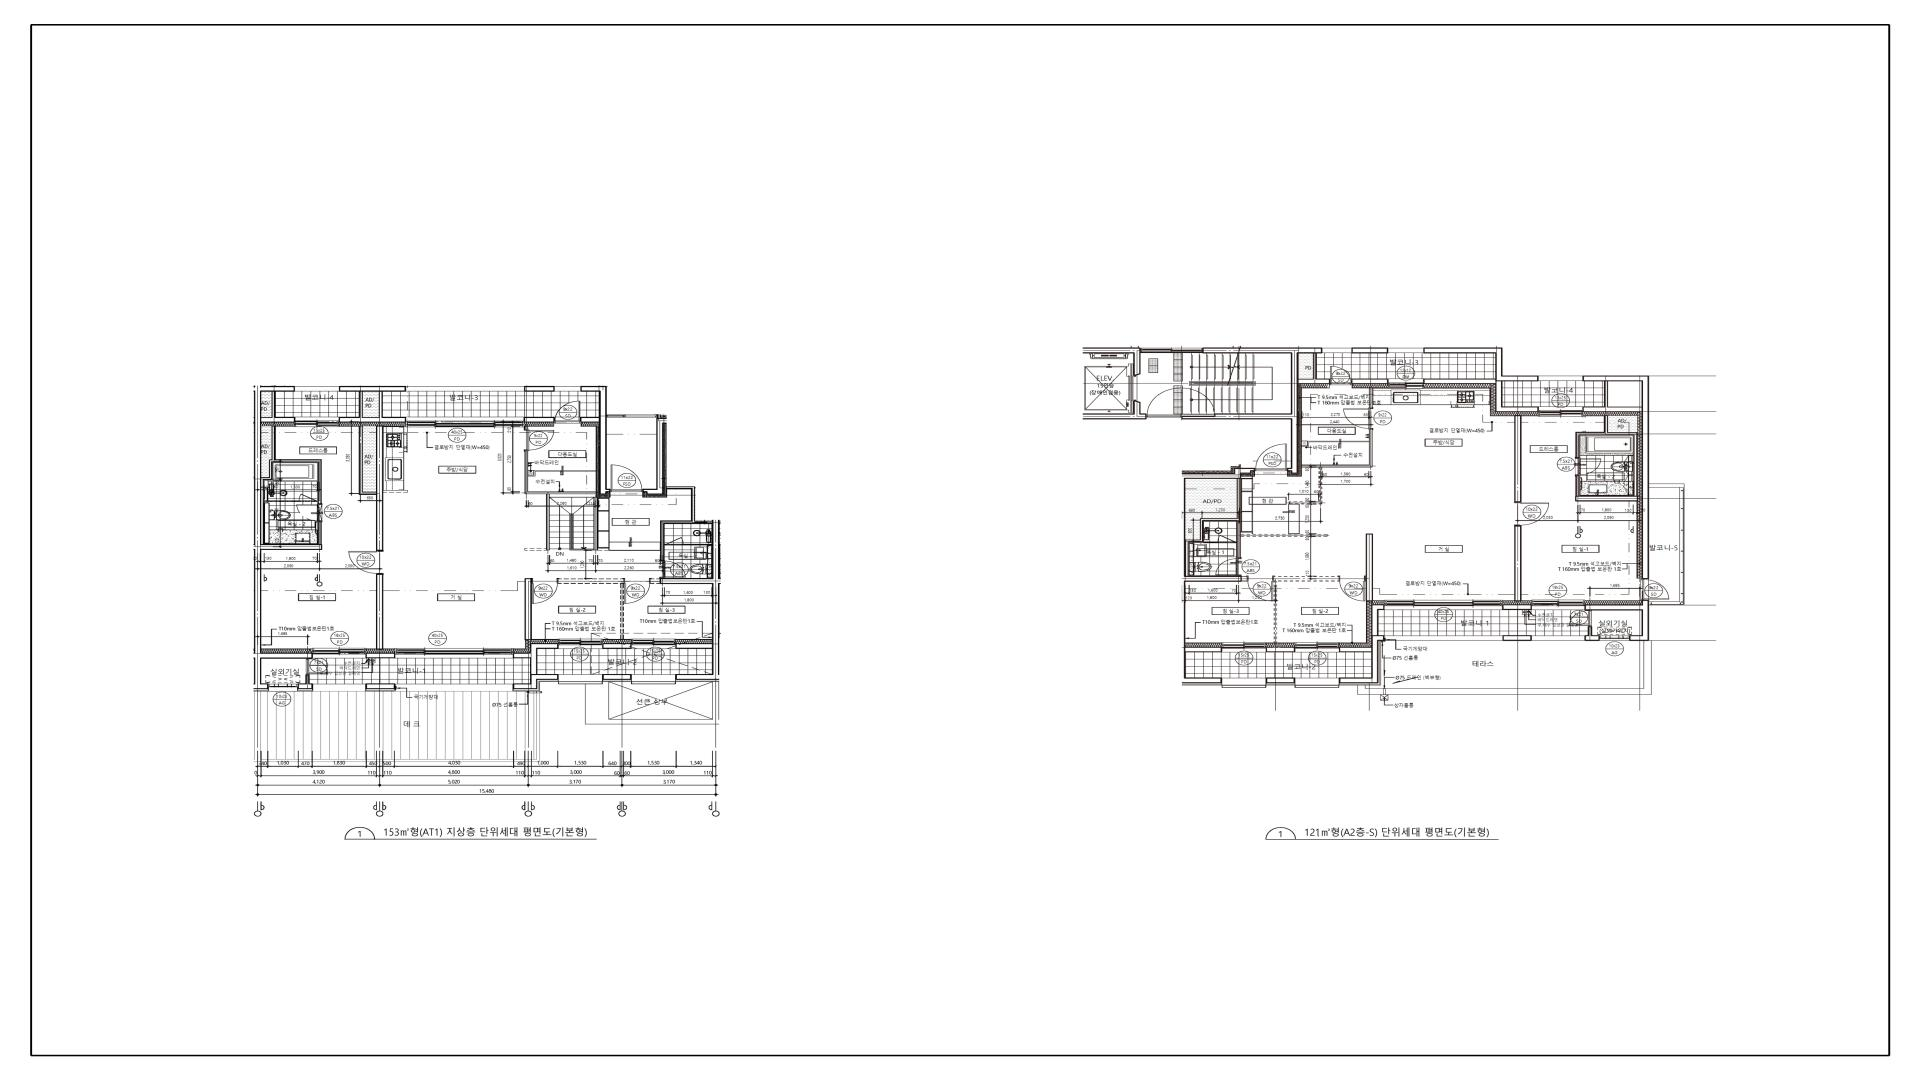door: (1146, 388, 1182, 418), (1255, 443, 1287, 472), (611, 464, 642, 492), (1514, 502, 1549, 526), (348, 551, 384, 574), (1338, 576, 1366, 601), (1247, 576, 1274, 601), (531, 579, 558, 604), (624, 579, 650, 604), (1342, 407, 1373, 429), (525, 430, 555, 451), (554, 401, 580, 423), (1642, 579, 1669, 600), (1215, 558, 1242, 576), (1576, 458, 1602, 476), (297, 504, 322, 522), (661, 560, 686, 579), (1329, 365, 1352, 385), (306, 658, 328, 675), (1568, 611, 1592, 626), (1217, 534, 1236, 543), (665, 537, 683, 546), (299, 493, 318, 502)
wall: (1582, 376, 1685, 641), (642, 414, 720, 680), (255, 386, 322, 690), (1182, 347, 1321, 473), (1182, 468, 1255, 683), (1185, 479, 1328, 576), (261, 426, 322, 545), (525, 451, 596, 550), (1288, 429, 1373, 505), (1576, 415, 1638, 501), (1274, 576, 1338, 644), (558, 579, 624, 640), (1424, 378, 1539, 413), (1424, 348, 1539, 381), (580, 386, 611, 495), (359, 426, 384, 551), (1340, 636, 1385, 683), (339, 392, 406, 422), (1582, 381, 1642, 413), (1083, 348, 1141, 376), (513, 644, 558, 674), (661, 521, 692, 560), (1083, 401, 1146, 419), (261, 392, 295, 422), (1298, 353, 1329, 384), (593, 497, 609, 550), (513, 674, 559, 690), (1514, 415, 1522, 502), (376, 574, 384, 650), (1514, 526, 1522, 601), (513, 680, 559, 691), (1366, 534, 1373, 601), (1371, 604, 1385, 636), (525, 579, 531, 641), (339, 386, 406, 392), (1185, 646, 1221, 653), (298, 675, 313, 690), (1585, 626, 1600, 641), (365, 683, 396, 690), (607, 414, 657, 418), (675, 644, 712, 649), (1352, 348, 1389, 353), (603, 674, 632, 680), (1352, 378, 1387, 384), (1503, 604, 1531, 611), (1340, 647, 1371, 653), (525, 386, 555, 392), (524, 417, 554, 422), (603, 644, 632, 649), (367, 653, 396, 658), (1266, 647, 1295, 653), (1503, 636, 1532, 641), (1266, 678, 1295, 683), (580, 417, 599, 422), (318, 522, 322, 545), (1369, 388, 1373, 407), (675, 680, 720, 682), (650, 579, 659, 584), (365, 690, 396, 691), (683, 545, 712, 546), (603, 680, 632, 682), (1242, 576, 1247, 582), (298, 690, 313, 691), (255, 690, 269, 691), (524, 426, 527, 430)
window: (1385, 600, 1503, 611), (406, 417, 524, 427), (396, 649, 513, 658), (396, 683, 513, 691), (1385, 636, 1503, 641), (406, 386, 525, 392), (1531, 600, 1585, 611), (313, 649, 367, 658), (1221, 678, 1267, 688), (1539, 406, 1584, 417), (1295, 642, 1340, 653), (1221, 642, 1266, 653), (1295, 678, 1340, 688), (558, 638, 603, 649), (632, 674, 675, 684), (559, 674, 603, 684), (295, 417, 339, 427), (313, 683, 365, 691), (1141, 347, 1203, 353), (632, 640, 675, 649), (1387, 378, 1424, 389), (1532, 636, 1585, 641), (294, 386, 339, 392), (1539, 376, 1582, 381), (269, 683, 298, 691), (1389, 348, 1424, 353), (1321, 348, 1352, 353), (1600, 636, 1630, 641), (555, 386, 580, 392)
